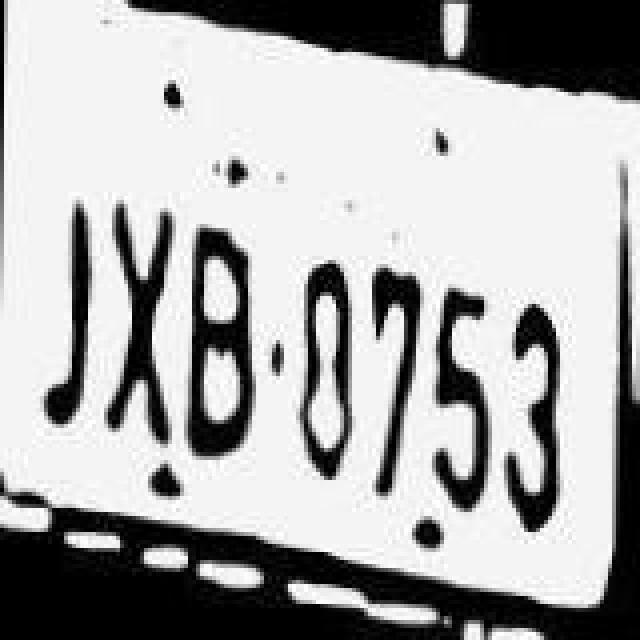3: (500, 308, 576, 548)
5: (426, 276, 498, 520)
7: (366, 256, 430, 516)
8: (290, 248, 358, 504)
B: (188, 204, 268, 464)
J: (30, 190, 106, 434)
X: (102, 190, 186, 450)
